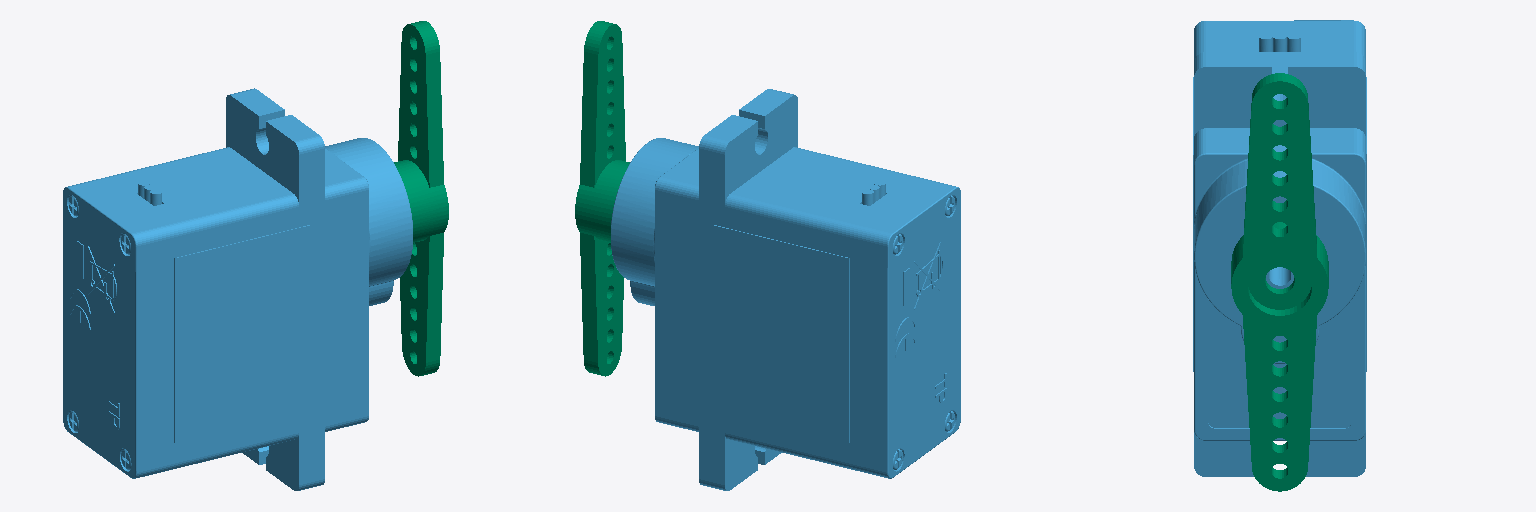
URDF robot description (single_link_arm):
<?xml version="1.0"?>

<robot name="single_link_arm">

    <link name="world">
    </link>

<link name="Servo">
        <visual>
            <origin rpy="1.57 1.57 0" xyz="0 0 0"/>
            <geometry>
                <mesh filename="package://links_act/models/SG90 - Micro Servo 9g.stl"/>
            </geometry>
        </visual>
</link>

<link name="Attachment">
        <visual>
            <origin rpy="1.57 1.57 0" xyz="0 0 0"/>
            <geometry>
                <mesh filename="package://links_act/models/SG90-Attachment.stl"/>
            </geometry>
        </visual>
</link>


  <joint name="joint1" type="fixed">
    <origin xyz="0 0 1" rpy="0 0 0"/>
    <parent link="world"/>
    <child link="Servo"/>
  </joint>

  <joint name="joint2" type="revolute">
    <origin xyz="0.0211 0 0.00515" rpy="0 0 0"/>
    <parent link="Servo"/>
    <child link="Attachment"/>
    <axis xyz="1 0 0"/>
    <limit lower="-1.57" upper="1.57" effort="5" velocity="2"/>
  </joint>


</robot>

--- Render facts (derived) ---
The picture shows the robot from 3 angles, left to right: view 1: azimuth 30°, elevation 25°; view 2: azimuth 150°, elevation 25°; view 3: azimuth 270°, elevation 25°; orthographic projection.
Model single_link_arm with 3 links and 2 joints (1 revolute, 1 fixed), rooted at world, posed all joints at 0.
Links seen in each view (by area): view 1: Servo, Attachment; view 2: Servo, Attachment; view 3: Servo, Attachment.
Link boxes in pixels (<box>): Servo: <box>63,88,412,490</box>; Attachment: <box>394,21,448,376</box>; Servo: <box>611,89,960,490</box>; Attachment: <box>575,21,629,376</box>; Servo: <box>1193,20,1366,476</box>; Attachment: <box>1231,73,1328,491</box>.
Bounding box of the posed robot: 0.0318 × 0.0124 × 0.0372 m (x, y, z).
2 mesh visuals loaded from 2 distinct referenced files (2 binary STL).